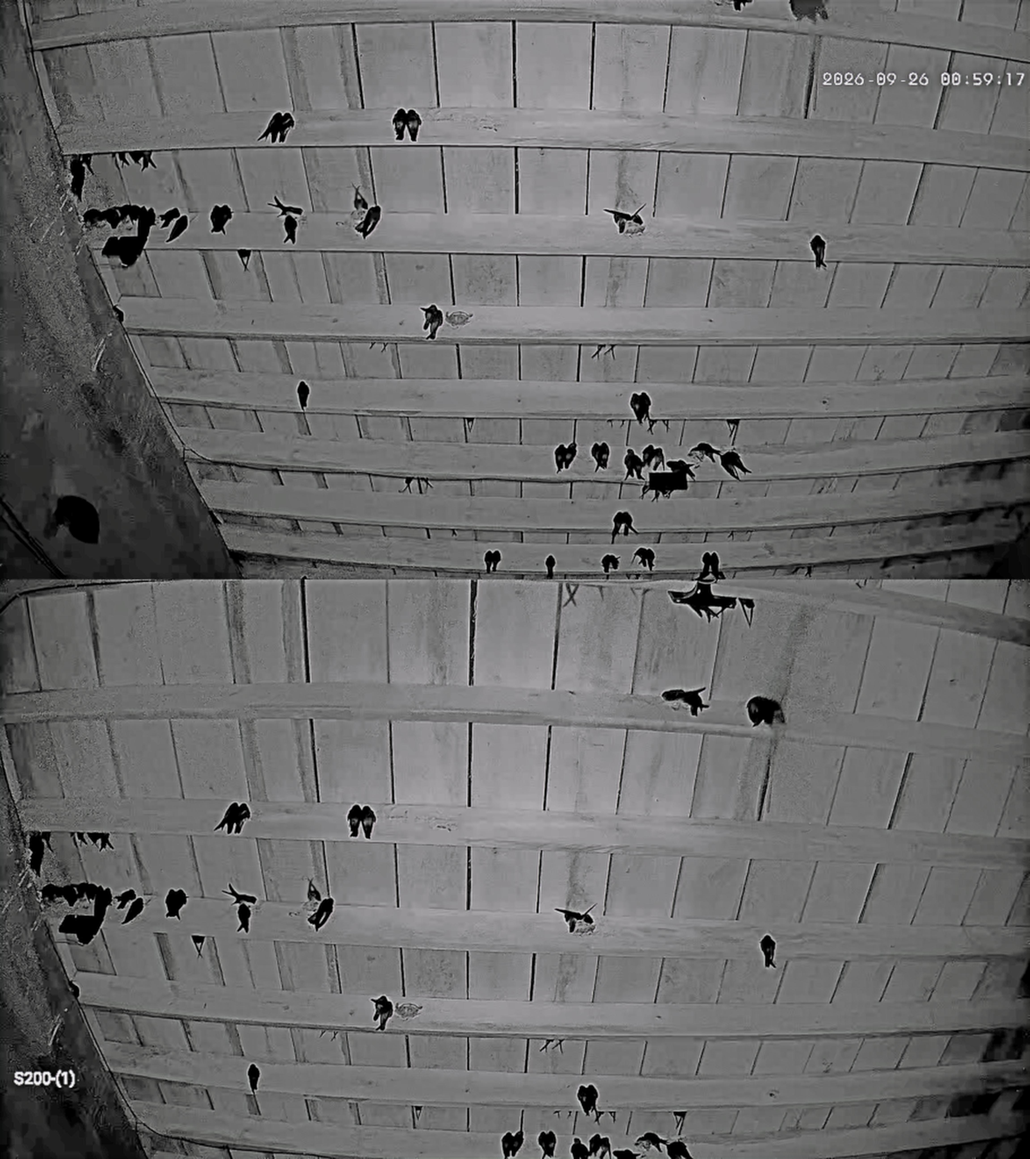swallow bird: (661, 687, 710, 717), (84, 204, 141, 229), (746, 696, 785, 726), (214, 803, 251, 834), (258, 112, 295, 143), (605, 205, 644, 233), (69, 154, 92, 200), (555, 905, 594, 932), (307, 897, 334, 932), (28, 832, 49, 877), (117, 203, 156, 227), (720, 450, 751, 480), (355, 205, 381, 239), (83, 207, 123, 229), (790, 0, 828, 23), (266, 195, 304, 217), (612, 511, 638, 543), (420, 304, 444, 338), (577, 1084, 599, 1121), (41, 883, 78, 905), (698, 552, 725, 582), (372, 995, 394, 1030), (222, 882, 257, 904), (559, 583, 583, 615), (630, 392, 652, 426), (64, 883, 97, 905), (137, 207, 156, 244), (93, 887, 113, 922), (165, 889, 187, 920), (210, 205, 233, 234), (501, 1129, 523, 1159), (624, 448, 644, 481), (664, 459, 695, 480), (689, 442, 720, 463), (121, 897, 145, 924), (687, 605, 722, 623), (166, 215, 188, 243), (635, 1132, 668, 1150), (399, 476, 433, 493), (642, 444, 665, 469), (129, 150, 156, 171), (405, 109, 422, 142), (810, 234, 826, 269), (591, 442, 610, 471), (589, 1134, 611, 1159), (760, 934, 776, 968), (360, 805, 376, 839), (537, 1131, 556, 1159), (666, 1139, 692, 1159), (347, 804, 362, 837), (633, 548, 654, 571), (738, 597, 754, 627), (612, 512, 628, 542), (395, 1002, 423, 1019), (76, 882, 101, 901), (87, 832, 112, 851), (236, 902, 251, 933), (115, 888, 136, 910), (392, 108, 406, 141), (41, 883, 64, 903), (445, 311, 473, 327), (283, 215, 298, 244), (484, 549, 501, 574), (564, 440, 578, 470), (625, 215, 645, 236), (160, 207, 180, 228), (595, 442, 610, 470), (353, 184, 368, 211), (724, 419, 740, 444), (571, 1137, 589, 1159), (538, 1038, 564, 1053), (297, 380, 310, 410), (601, 554, 619, 575), (247, 1064, 260, 1093), (553, 444, 566, 473), (672, 1110, 687, 1134), (591, 344, 615, 359), (500, 1132, 513, 1159), (512, 1128, 524, 1156), (237, 249, 252, 271), (307, 879, 321, 902), (191, 936, 205, 958), (78, 153, 93, 173), (642, 444, 654, 469), (39, 831, 53, 852), (111, 151, 129, 167), (613, 1149, 641, 1159), (624, 448, 633, 479), (545, 555, 556, 579), (484, 550, 495, 574), (463, 417, 475, 436), (733, 0, 752, 12), (483, 550, 492, 574), (591, 344, 604, 360), (413, 1105, 423, 1124), (370, 341, 386, 352), (70, 981, 80, 998), (113, 306, 123, 323), (73, 833, 86, 845), (648, 419, 657, 433), (641, 484, 649, 499), (661, 419, 670, 432), (652, 491, 661, 502), (662, 489, 671, 499), (805, 565, 811, 577), (606, 419, 616, 426), (729, 531, 735, 540), (638, 420, 642, 425)
